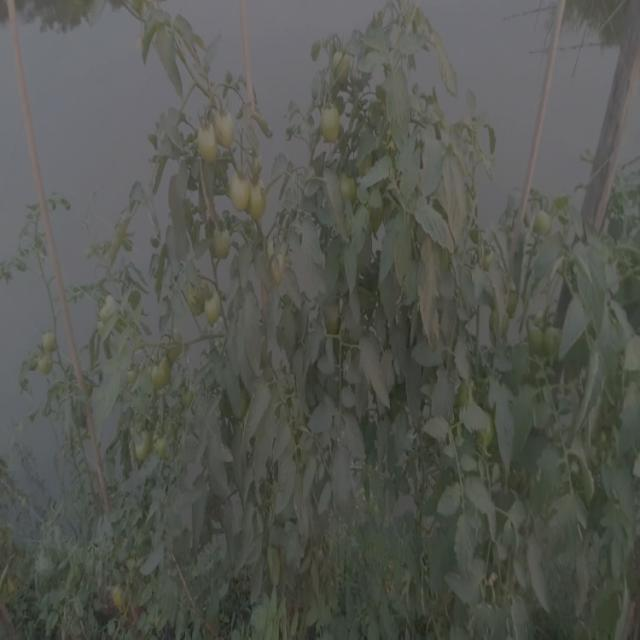tomato: (196, 284, 231, 327), (525, 325, 565, 360), (191, 119, 221, 163), (318, 100, 348, 143), (35, 336, 64, 377), (142, 350, 173, 388), (209, 223, 239, 262), (225, 166, 251, 208), (215, 104, 239, 146), (129, 430, 153, 469), (528, 204, 557, 236), (111, 580, 132, 618), (338, 168, 359, 203), (252, 180, 271, 217), (158, 433, 168, 452)
